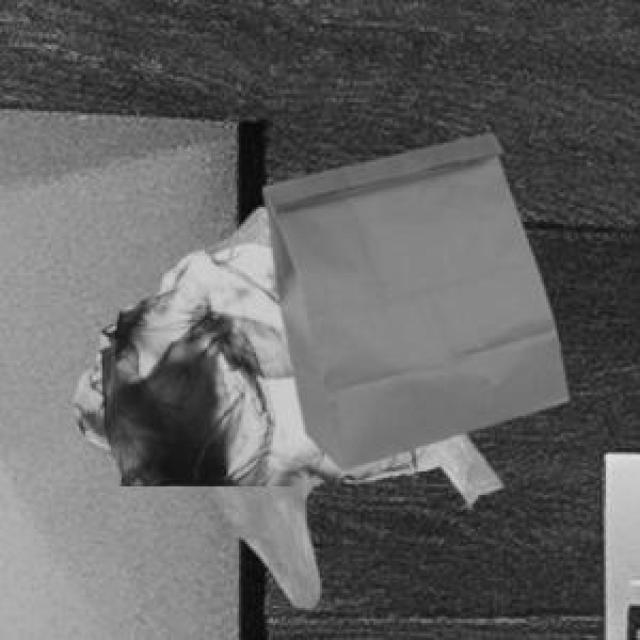paper: (260, 130, 563, 465)
